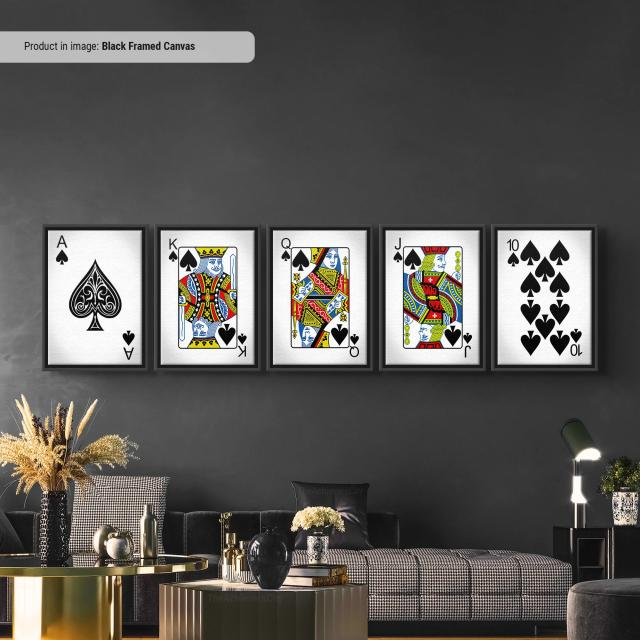painting: (267, 226, 372, 371), (380, 225, 484, 370), (492, 226, 595, 370), (157, 226, 258, 368), (44, 226, 144, 369)
